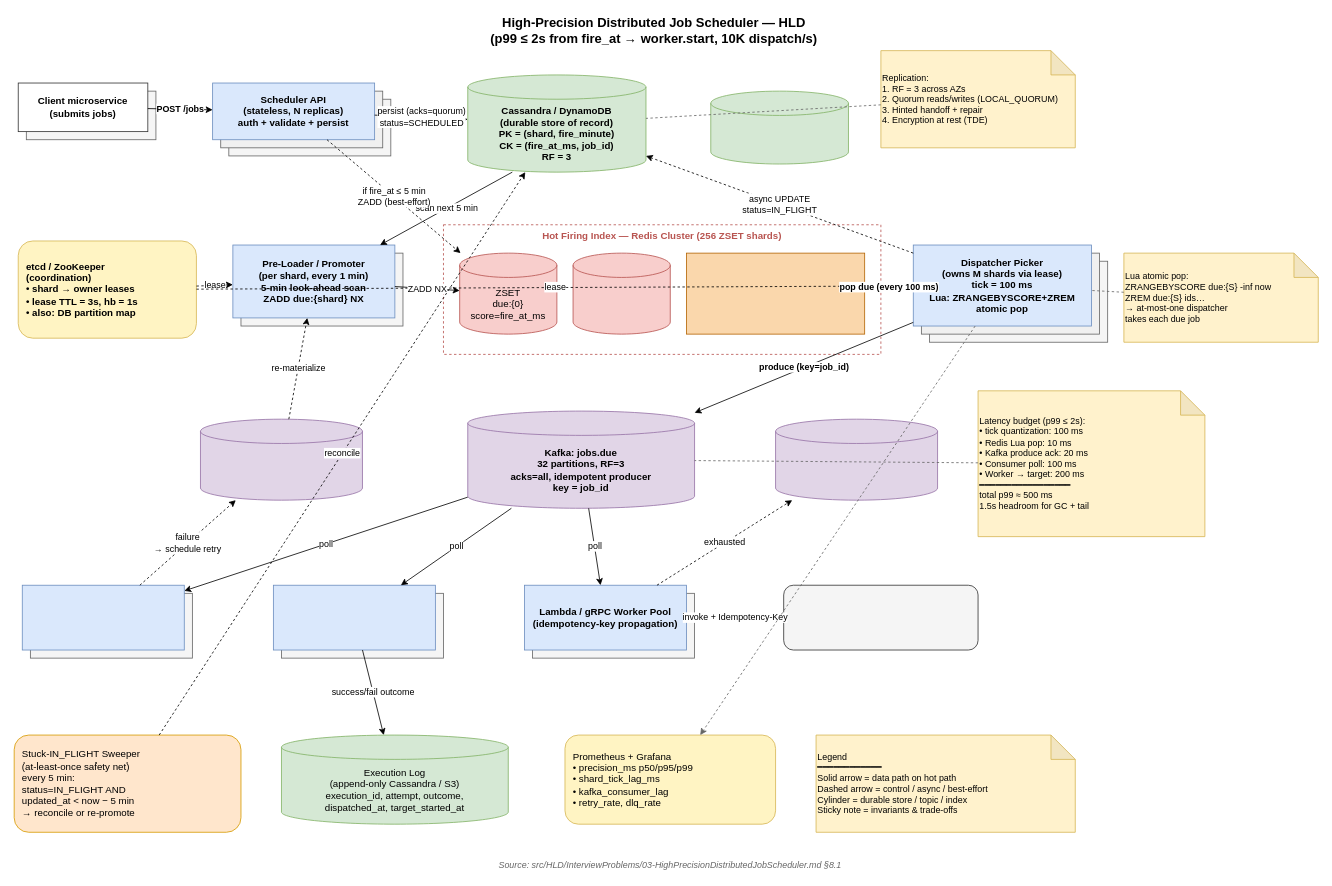
Some shapes in this 1332 by 886 pixel diagram are drawn without their labels. The shapes that lost their labels are listed below. From the top down, each one's box as (x1, y1, x2, y2) in pixels, then its label:
(710, 90, 848, 164): jobs_by_id secondary index (cancel / lookup)
(572, 252, 670, 334): ZSET due:{1}
(686, 252, 865, 334): … 256 shards … ~600MB / shard ~3M jobs in hot 5-min window
(200, 418, 362, 500): Kafka: jobs.retry (delayed fan-back)
(775, 418, 938, 500): Kafka: jobs.dlq (max attempts exhausted)
(21, 584, 184, 650): HTTP Worker Pool (per-target concurrency circuit breakers)
(273, 584, 435, 650): Kafka-target Worker Pool (re-emit to tenant topic)
(783, 584, 978, 650): Tenant target services (HTTP webhooks, Lambdas, internal microservices)
